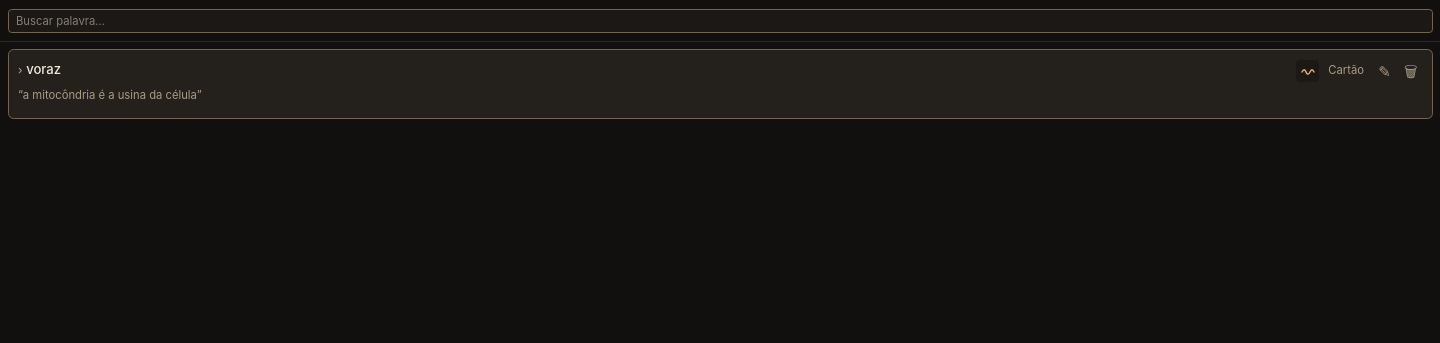
o card — clicar abre o significado inteiro, os sinônimos e os antônimos › o lápis abre com os campos já preenchidos, listas separadas por vírgula; Esc cancela sem salvar
This screenshot has width=1440, height=343.
Click the button named "Editar voraz": (1385, 71) [1373, 60, 1396, 82]
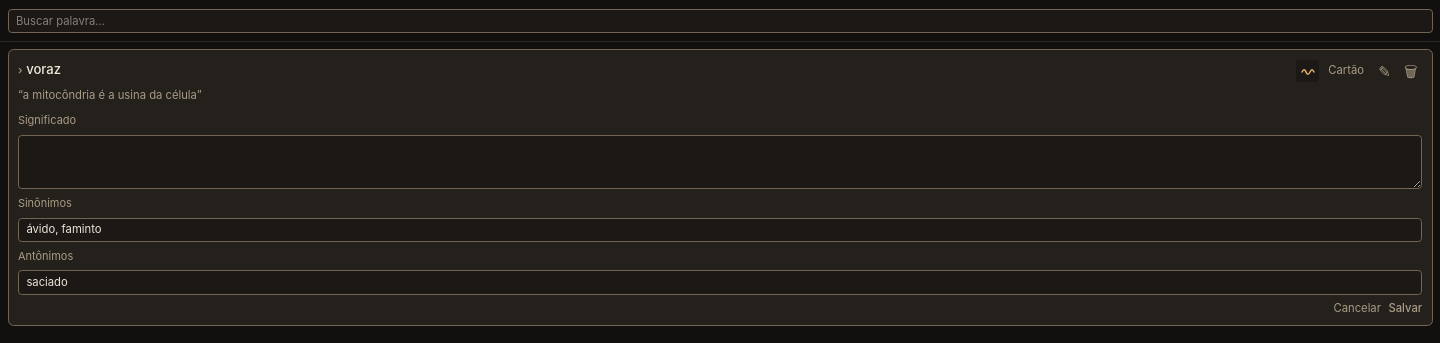
Now the field labelled "Sinônimos" holds "ávido, faminto"
Now the field labelled "Antônimos" holds "saciado", box [18, 270, 1422, 295]
Press Escape in the field labelled "Sinônimos", box [18, 218, 1422, 242]
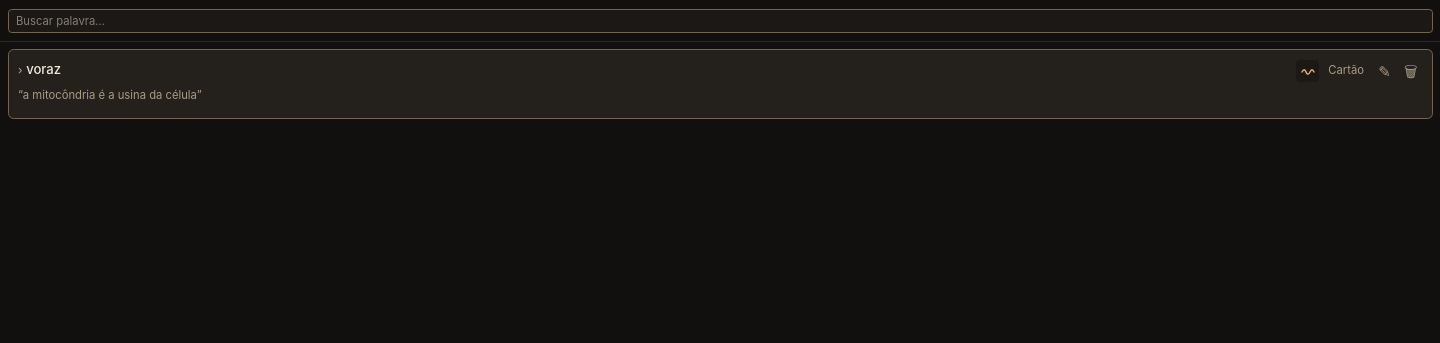
Now the label labelled "Sinônimos" is gone
